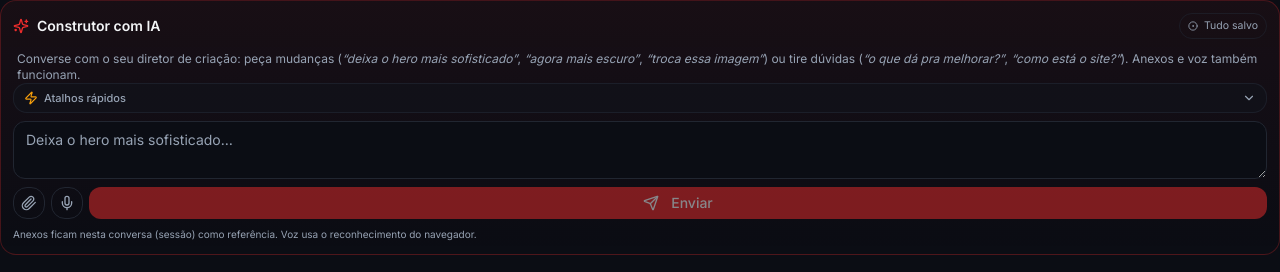
Test: Gravador de voz do chat — só transcreve ao PARAR e UMA vez (silêncio não finaliza) › 2) pausa longa (onend automático) NÃO finaliza nem insere; continua depois
This screenshot has width=1280, height=272.
Step 1. Click the button titled "Gravar com voz" → {"x": 67, "y": 203}, box [51,187,83,219]
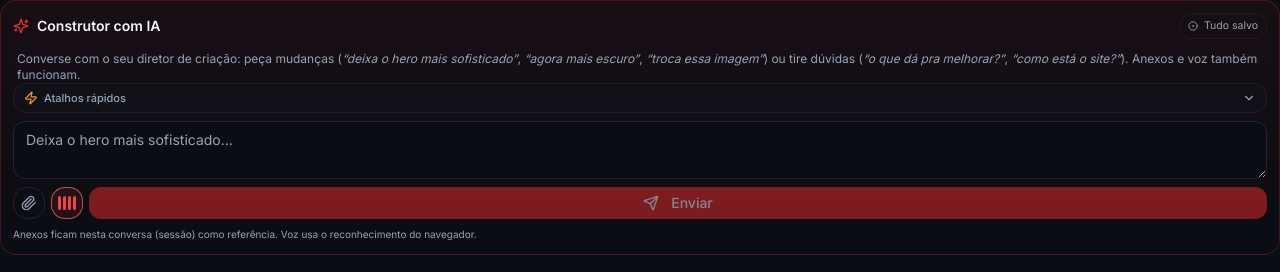
Check: the text box with placeholder "Deixa o hero mais sofisticado…" is empty, box [13,121,1267,179]
Step 2. Click the button titled "Parar gravação" → {"x": 67, "y": 203}, box [51,187,83,219]
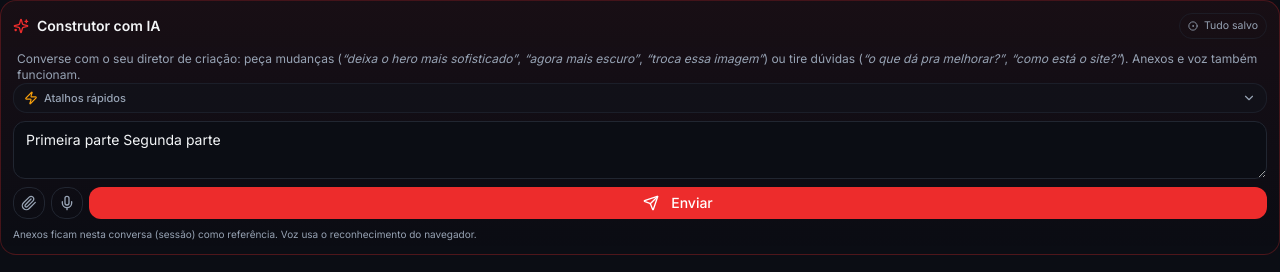
Check: the text box with placeholder "Deixa o hero mais sofisticado…" holds "Primeira parte Segunda parte", box [13,121,1267,179]
